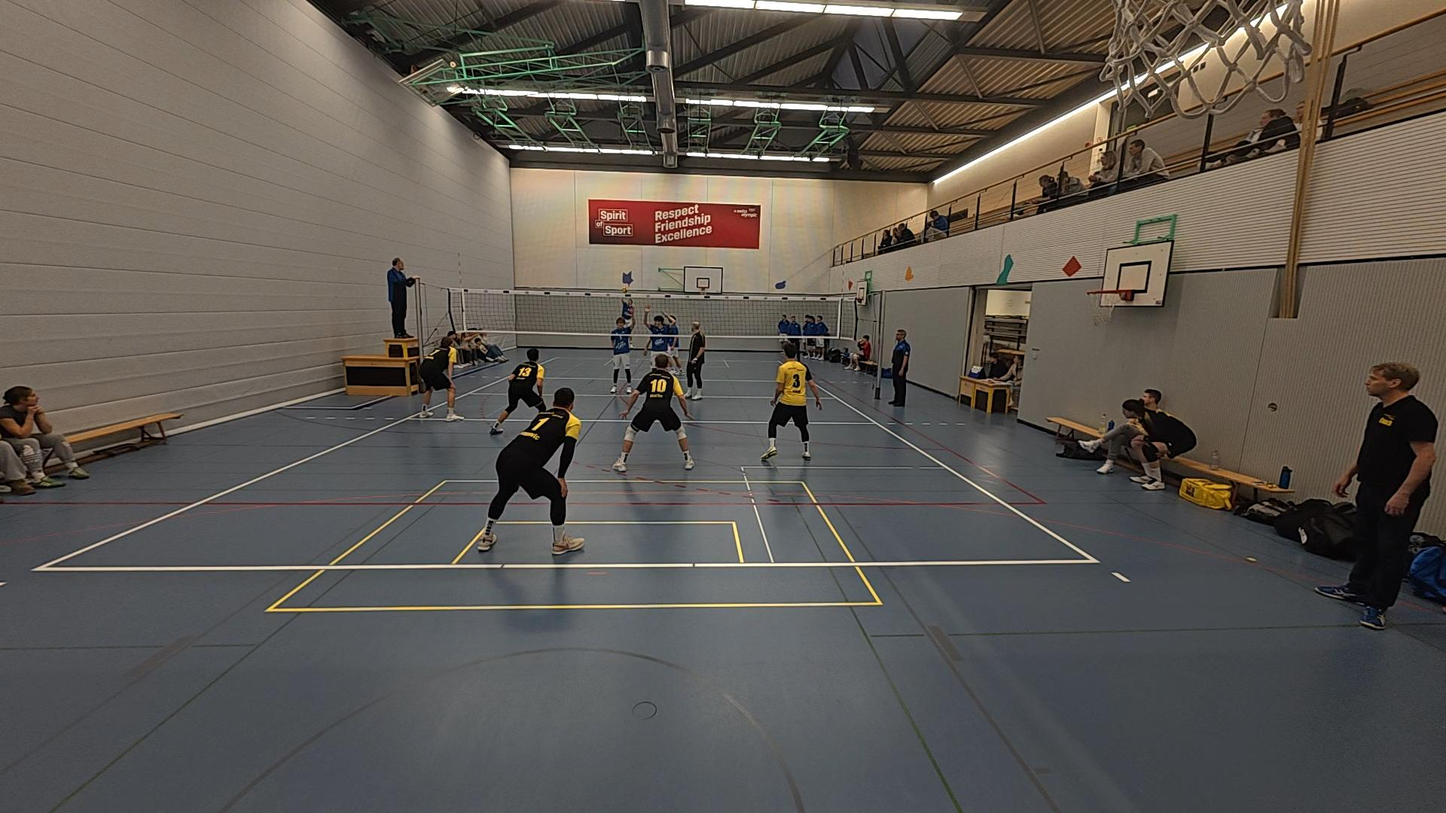Player: (478, 387, 584, 555), (612, 356, 694, 473), (761, 342, 824, 461), (490, 347, 546, 434), (419, 333, 465, 422), (642, 304, 676, 395), (609, 307, 636, 397), (684, 321, 709, 400), (663, 312, 685, 378), (618, 292, 637, 349)
ball: (620, 285, 629, 295)
